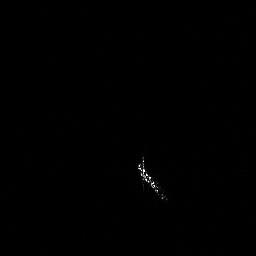ship: (133, 155, 172, 204)
